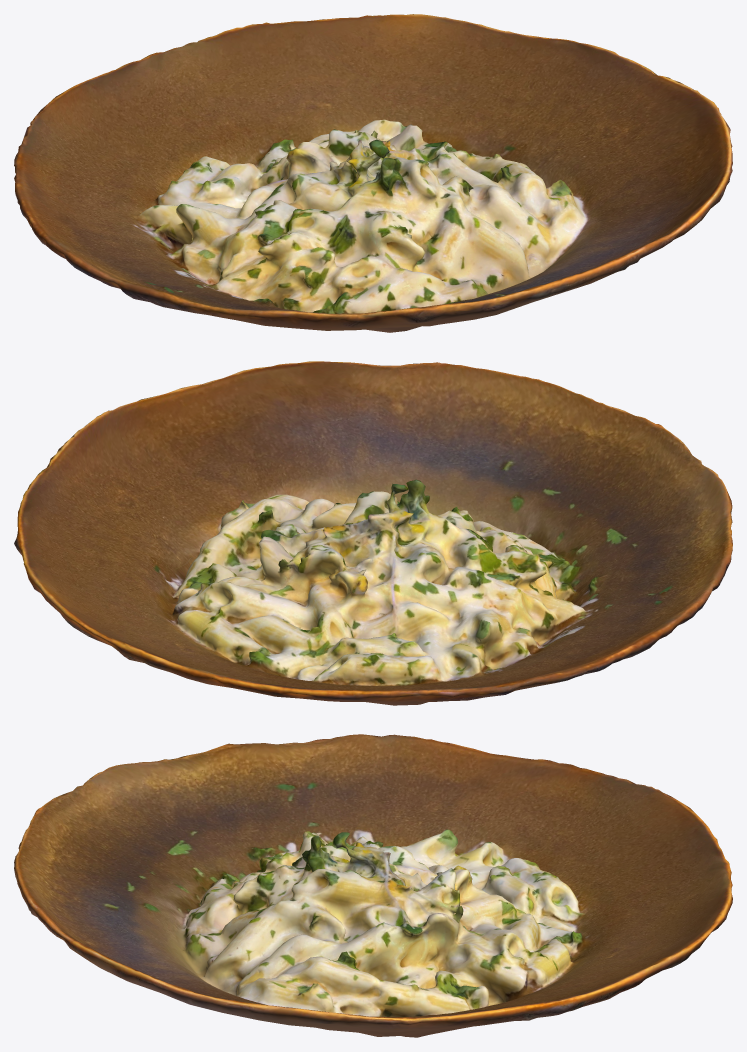
Rendered from penne-4-fromages.glb.
The picture shows the model from 3 angles, top to bottom: view 1: azimuth 30°, elevation 25°; view 2: azimuth 150°, elevation 25°; view 3: azimuth 270°, elevation 25°; orthographic projection.
Visible parts, largest first — view 1: /ObjectCapture/Geometry/Mesh; view 2: /ObjectCapture/Geometry/Mesh; view 3: /ObjectCapture/Geometry/Mesh.
Boxes of the visible parts, x1,y1,x2,y2 form: /ObjectCapture/Geometry/Mesh: (14,14,732,332); /ObjectCapture/Geometry/Mesh: (14,361,732,705); /ObjectCapture/Geometry/Mesh: (14,734,732,1037).
Bounding box in the file's own units: 0.268 × 0.0549 × 0.2697.
1 material, 1 textured.
